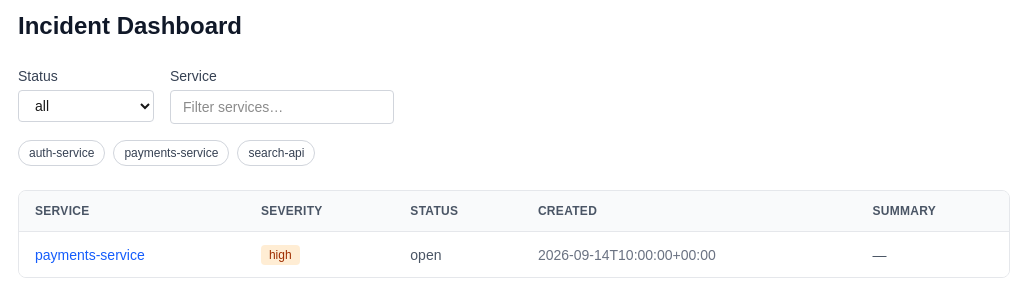
Scenario: tag toggle and search-box sync › clicking a tag selects it and writes the name into the search box
The width and height of the screenshot is (1027, 295).
Expected: the button "payments-service" is shown, [113, 140, 229, 166]
Click the button "auth-service" at [62, 153], box [18, 140, 105, 166]
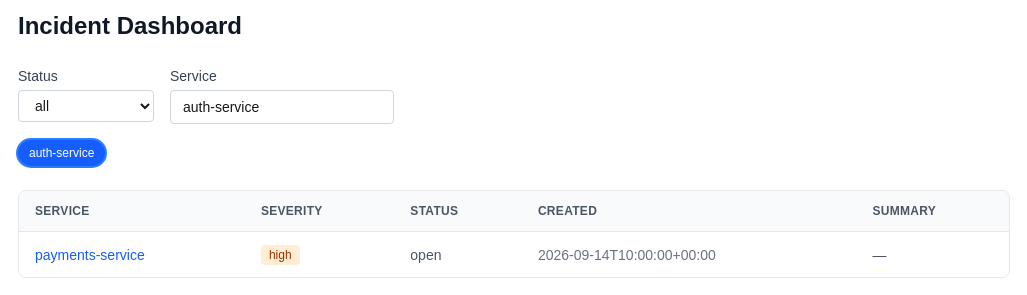
Expected: the field labelled "Service" holds "auth-service", [170, 90, 394, 124]
